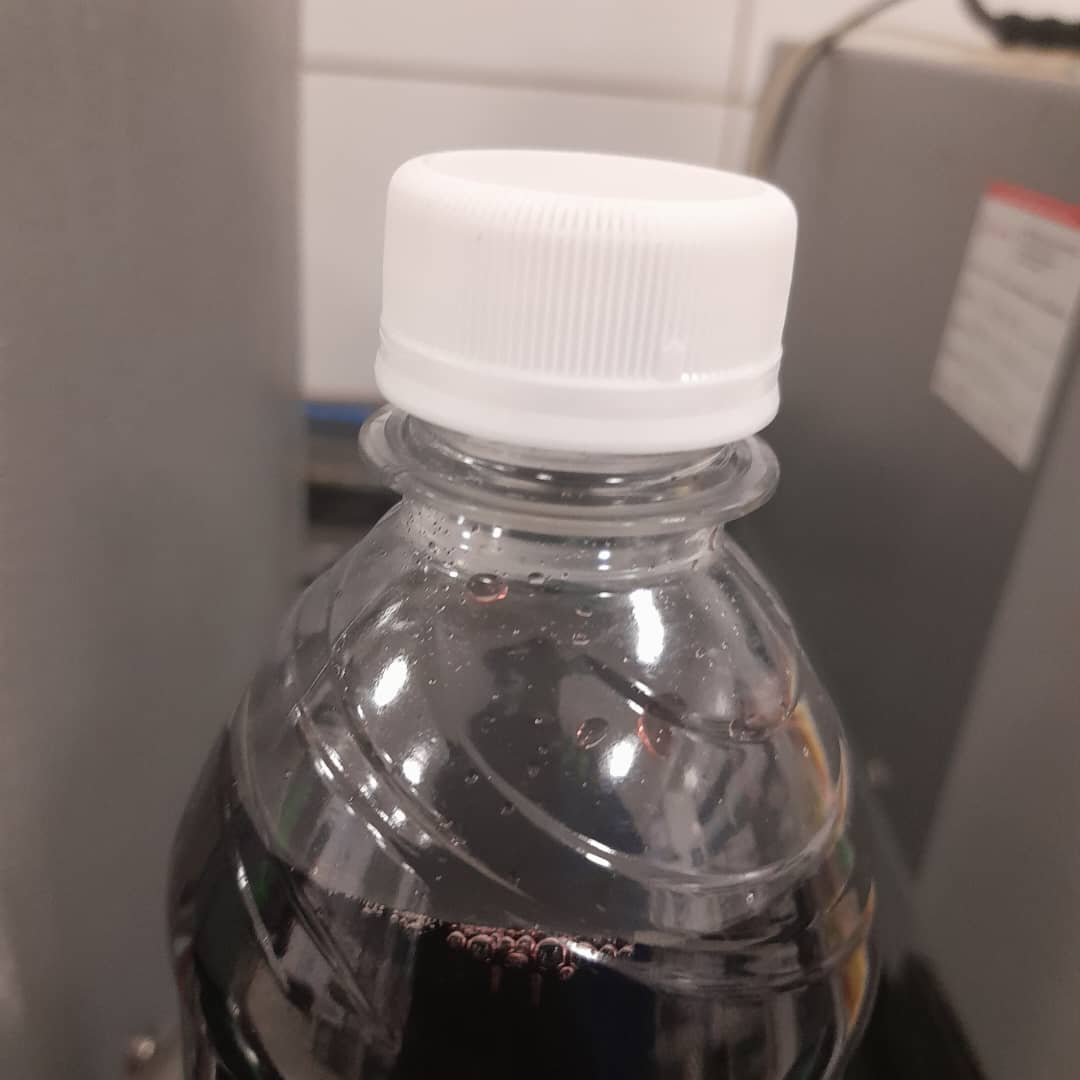Good Cap: (268, 130, 907, 587)
